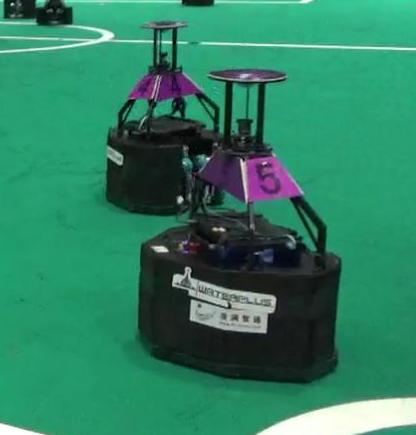robot: (135, 61, 352, 390), (101, 14, 233, 214)
